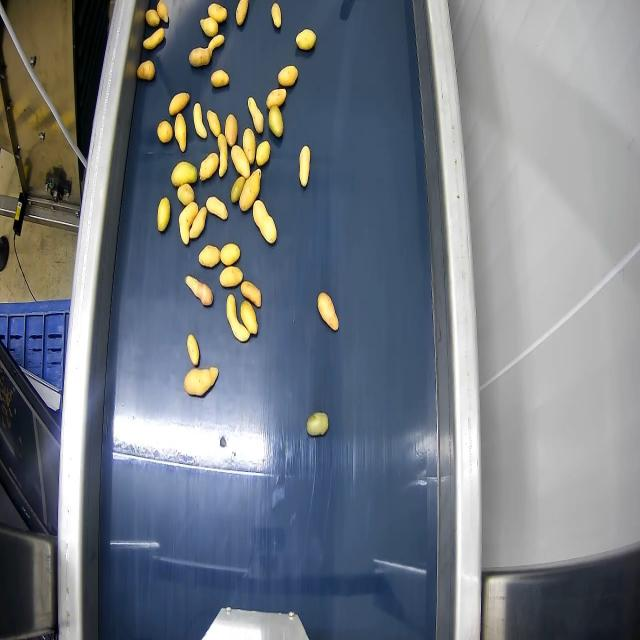Baby Potato: (226, 294, 249, 342), (253, 200, 276, 244), (184, 368, 218, 396), (239, 169, 261, 211), (179, 202, 199, 245), (185, 276, 213, 306), (318, 292, 338, 330), (171, 161, 197, 187), (231, 145, 250, 178), (240, 301, 257, 335), (199, 152, 218, 181), (248, 97, 263, 133), (241, 280, 261, 307), (168, 92, 190, 116), (189, 208, 206, 239), (299, 145, 311, 187), (242, 128, 256, 164), (193, 103, 207, 139), (307, 413, 328, 436), (206, 197, 227, 220), (174, 113, 186, 152), (220, 266, 242, 287), (220, 243, 240, 266), (268, 107, 283, 137), (157, 198, 170, 232), (143, 28, 164, 49), (217, 134, 227, 177), (206, 110, 221, 138), (296, 29, 316, 50), (266, 88, 286, 109), (199, 246, 219, 267), (278, 65, 297, 87), (189, 48, 211, 67), (225, 114, 237, 147), (187, 334, 199, 367), (157, 120, 173, 144), (208, 3, 227, 23), (200, 17, 218, 38), (231, 176, 245, 203), (177, 184, 194, 206), (256, 141, 270, 166), (137, 61, 155, 80), (208, 34, 224, 54), (236, 0, 248, 26), (211, 70, 228, 87), (145, 9, 160, 27), (271, 2, 281, 28), (157, 1, 168, 23)
